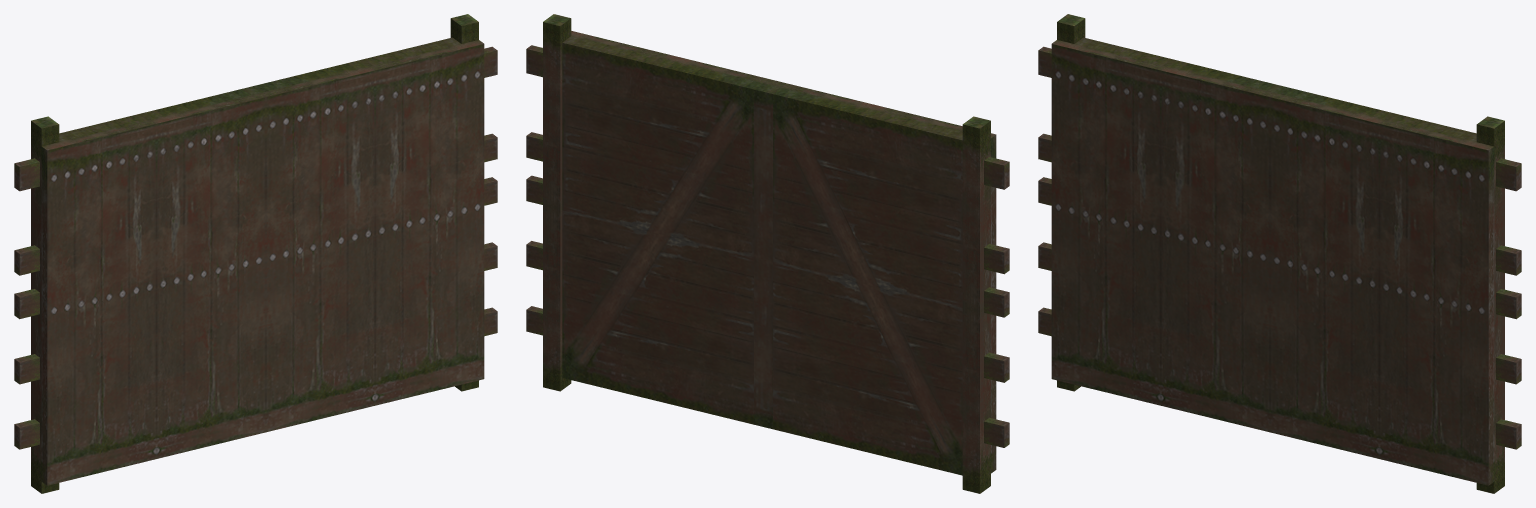
The model's file is b_zx_yuanmenmuqiang01.FBX.
3 views of the same model, side by side, from view 1: azimuth 30°, elevation 25°; view 2: azimuth 150°, elevation 25°; view 3: azimuth 330°, elevation 25° (orthographic).
Parts seen in each view (by area): view 1: b_zx_yuanmenmuqiang01; view 2: b_zx_yuanmenmuqiang01; view 3: b_zx_yuanmenmuqiang01.
Part boxes in pixels (box(x1,y1,x2,y2)): b_zx_yuanmenmuqiang01: box(14, 14, 497, 493); b_zx_yuanmenmuqiang01: box(526, 14, 1009, 493); b_zx_yuanmenmuqiang01: box(1038, 14, 1521, 493).
Bounding box in the file's own units: 5.79 × 4.23 × 0.3438.
